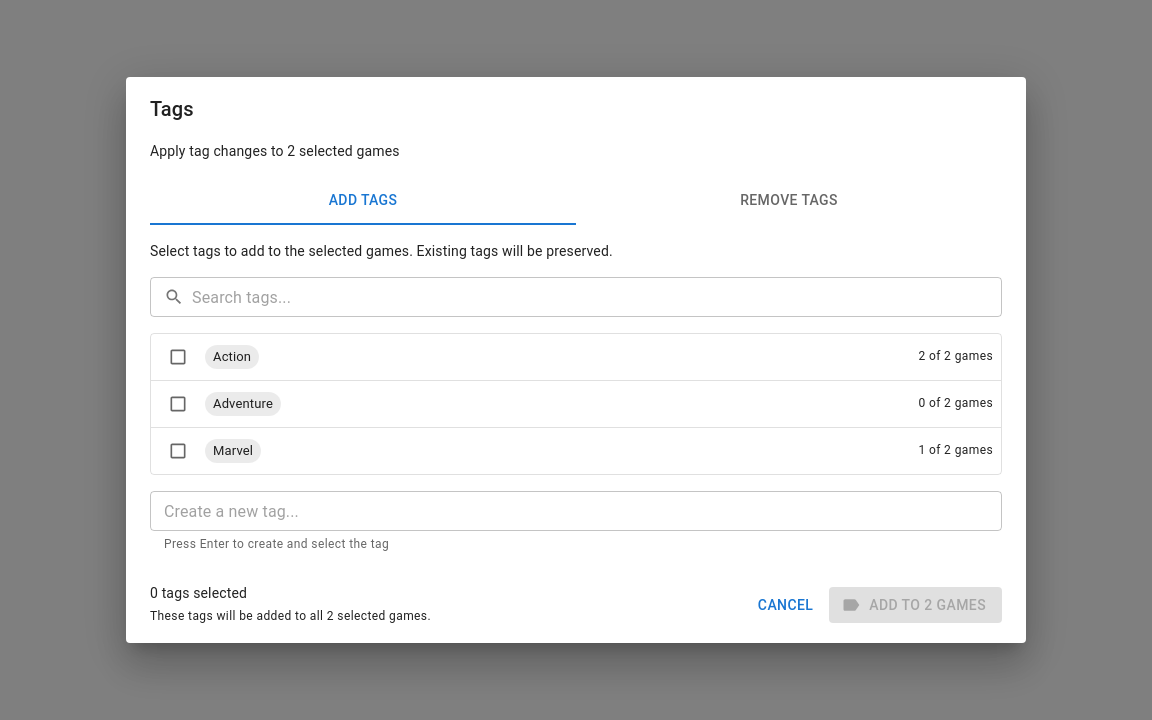
it: ManageTagsDialog › computes the real union of games for the Remove tab, not a flat sum
This screenshot has width=1152, height=720.
Expected: the text "Marvel" is shown, [213,443,253,458]
Click the tab "Remove tags". click: [789, 201]
box: [576,177,1002,225]
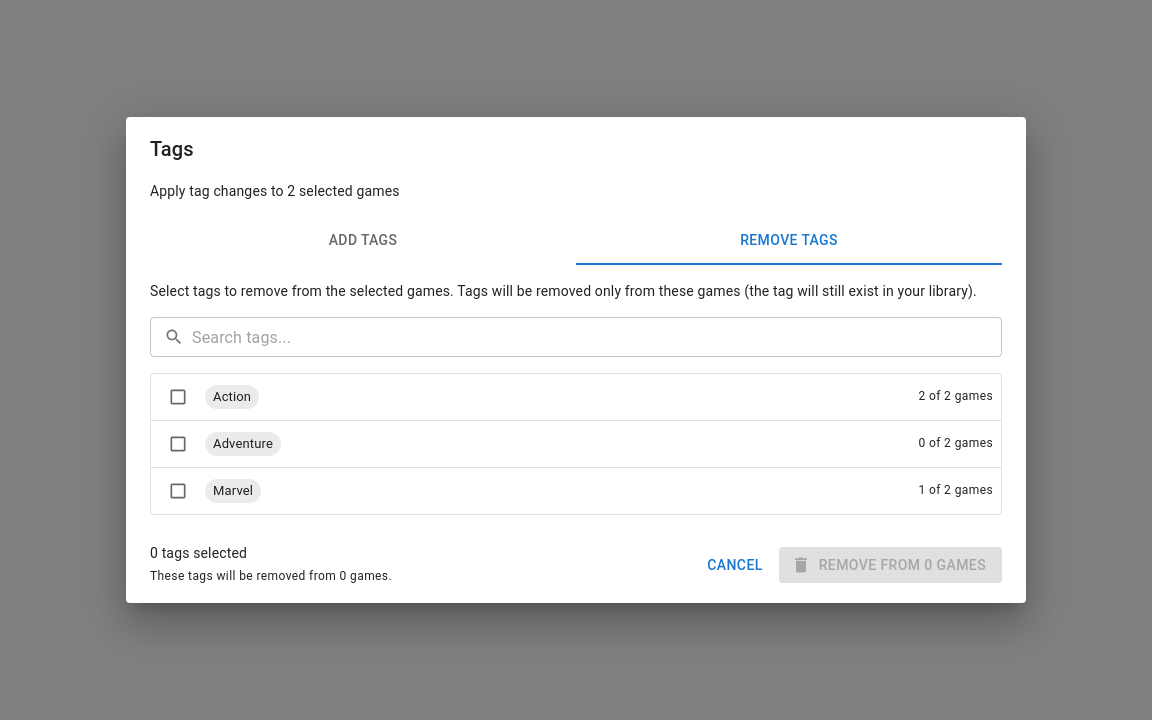
Click the checkbox named "Marvel". click: [178, 491]
box: [168,481,188,501]
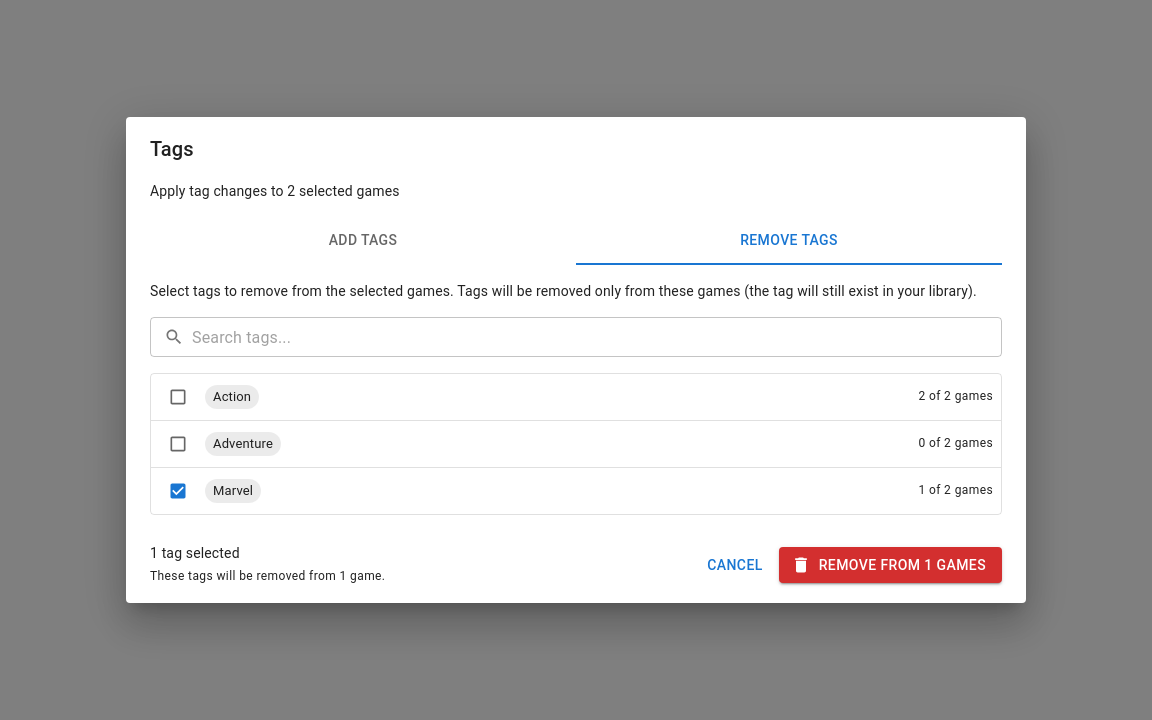
Click the checkbox named "Action". click: [178, 397]
box: [168,387,188,407]
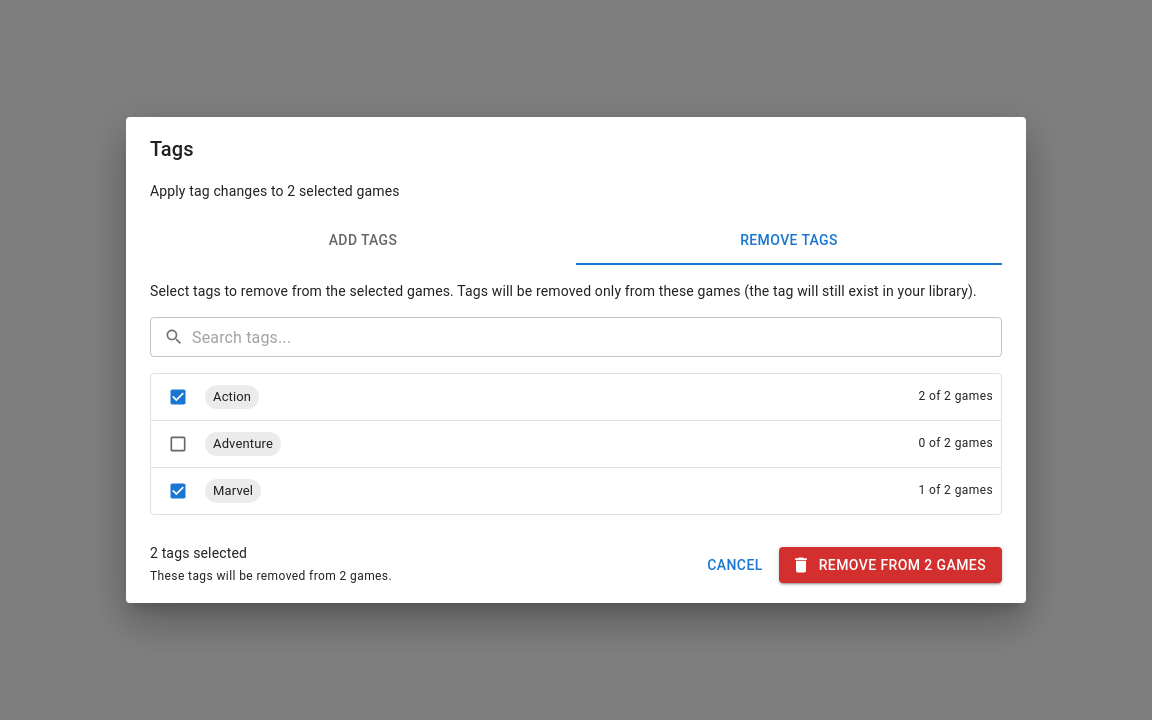
Result: the button "Remove from 2 games" is shown at [779,547,1002,583]
